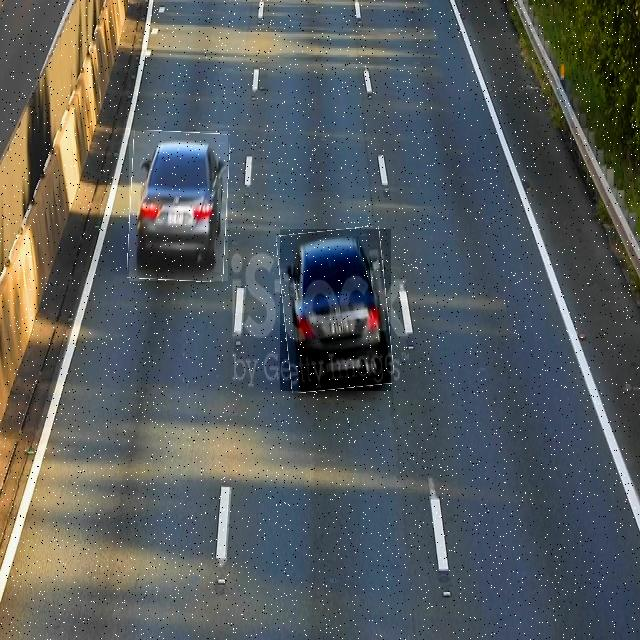Car: (280, 229, 391, 391), (129, 131, 228, 281)
